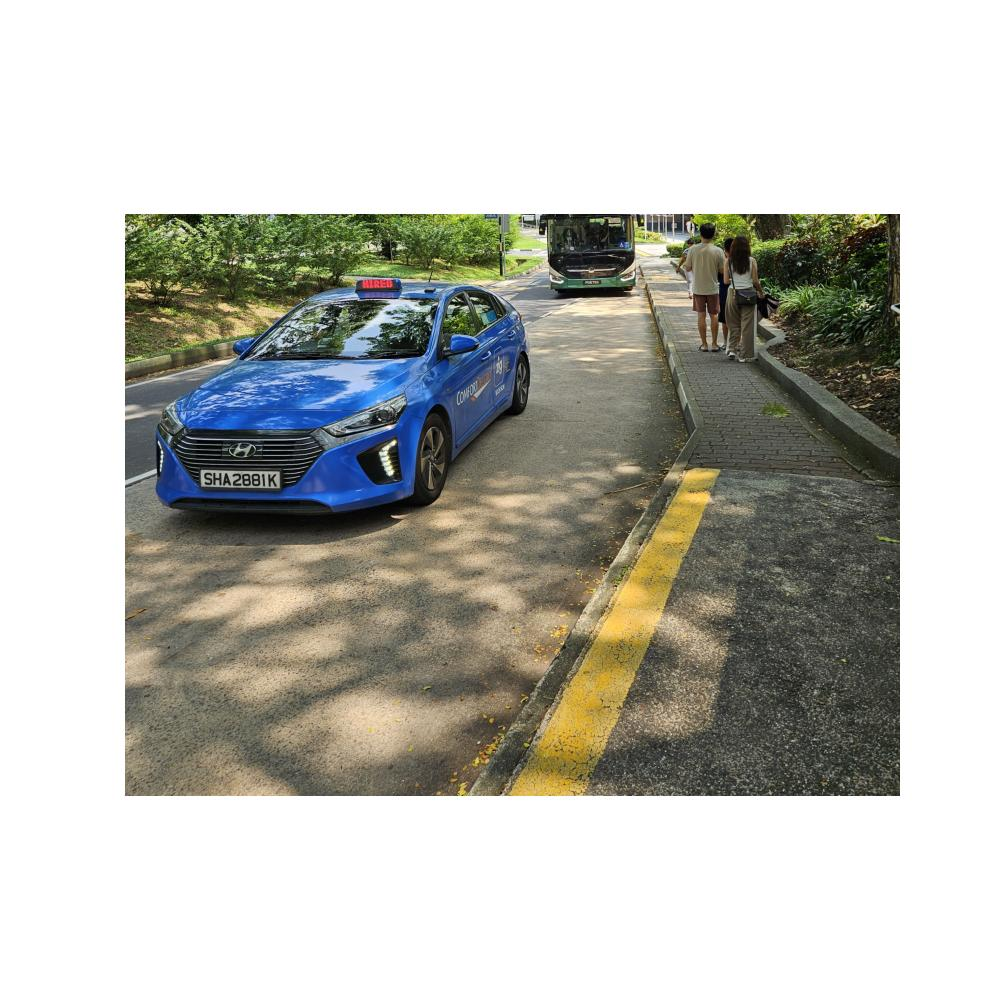bus: (536, 214, 644, 290)
